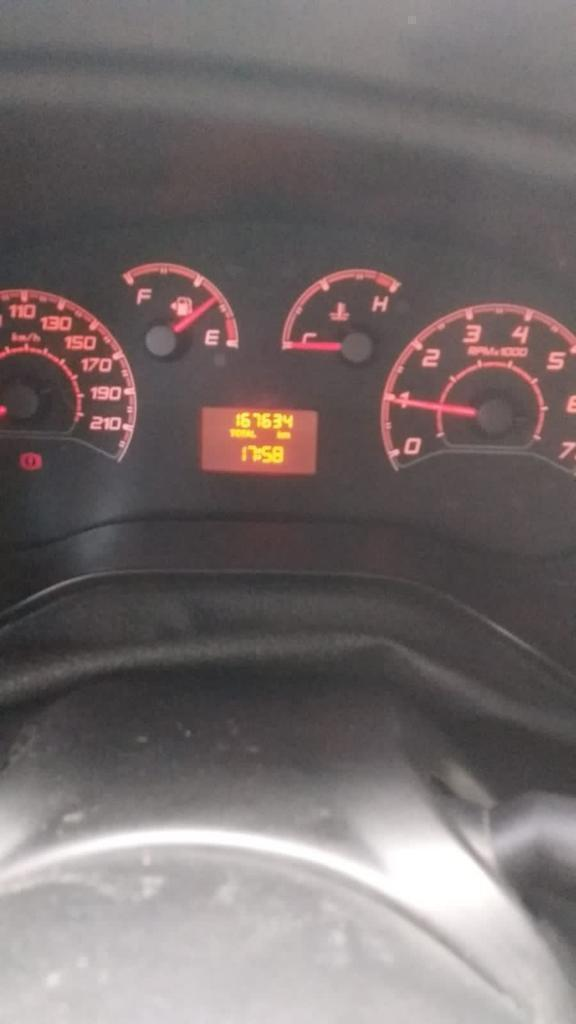1: (239, 445, 246, 462), (234, 412, 240, 428)
3: (272, 412, 282, 429)
4: (282, 413, 294, 429)
5: (261, 444, 271, 463)
6: (261, 411, 271, 429), (240, 411, 250, 428)
7: (251, 412, 261, 429), (247, 444, 256, 462)
8: (272, 445, 284, 463)
X: (282, 431, 292, 439), (256, 447, 261, 460), (275, 430, 282, 439), (229, 428, 235, 437), (245, 429, 250, 438), (235, 429, 240, 437), (240, 429, 245, 437), (251, 430, 256, 438)
odometer: (196, 399, 322, 479)
